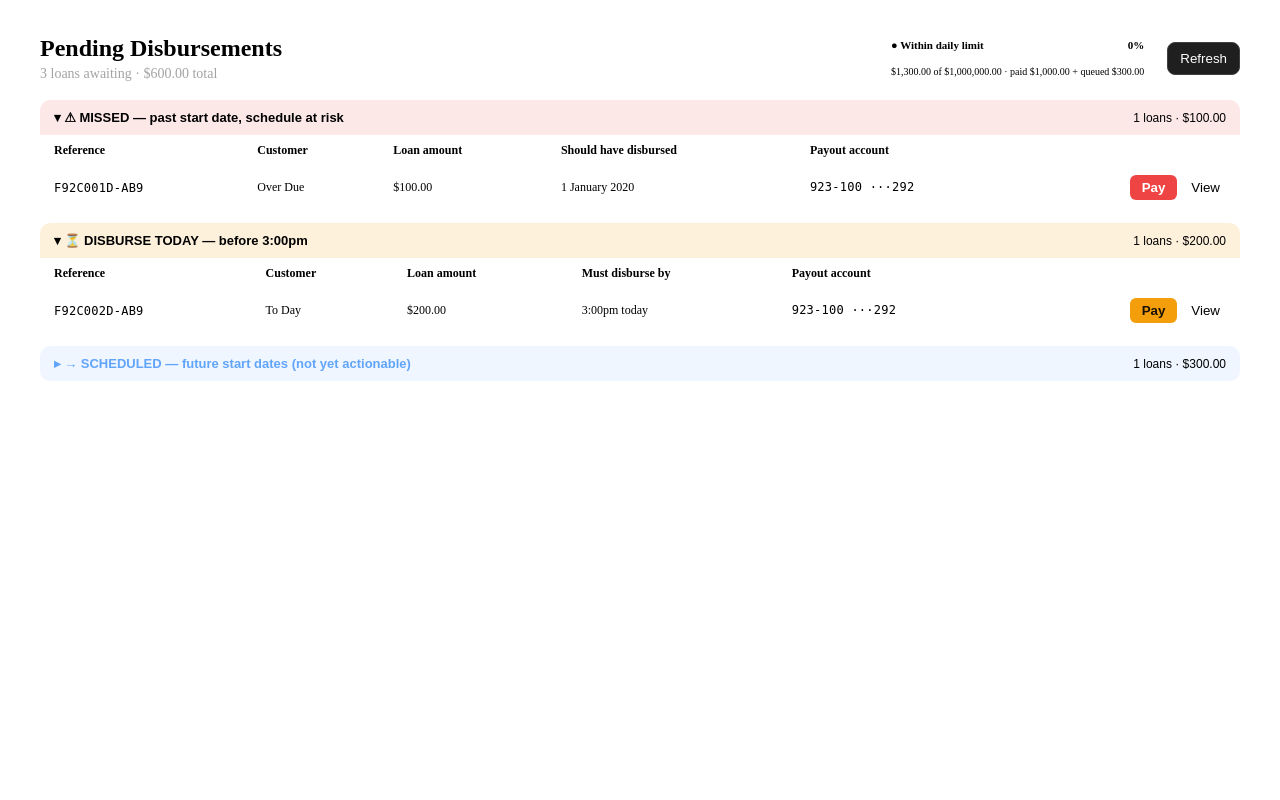
it: PendingDisbursementsView › opens the panel once the early-disbursement warning is confirmed
Expected: the element with test id "section-scheduled" is shown, x1=40 y1=346 x2=1240 y2=381
Click the text "▸ → SCHEDULED — future start dates (not yet actionable)" at (232, 364), box x1=54 y1=356 x2=411 y2=371
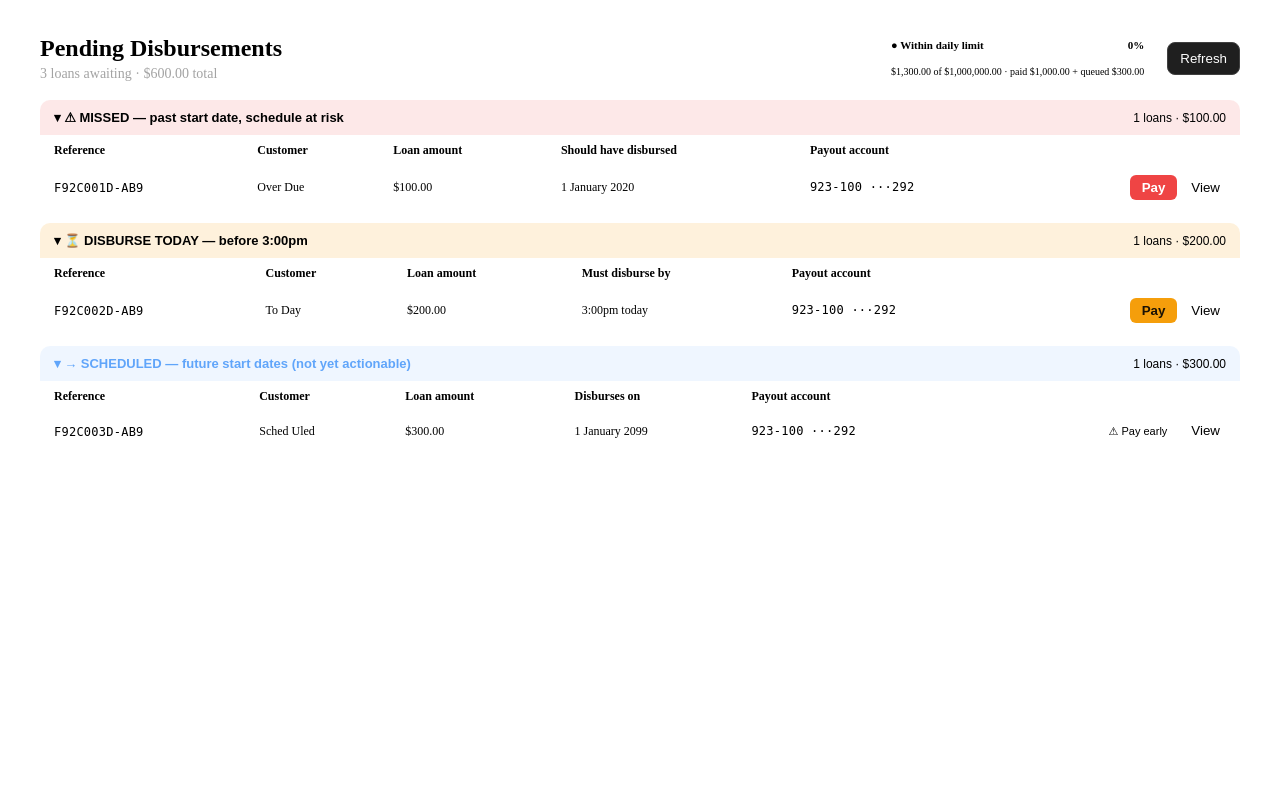
Click the button with test id "toggle-payment-a3" at (1138, 432), box x1=1099 y1=421 x2=1177 y2=442
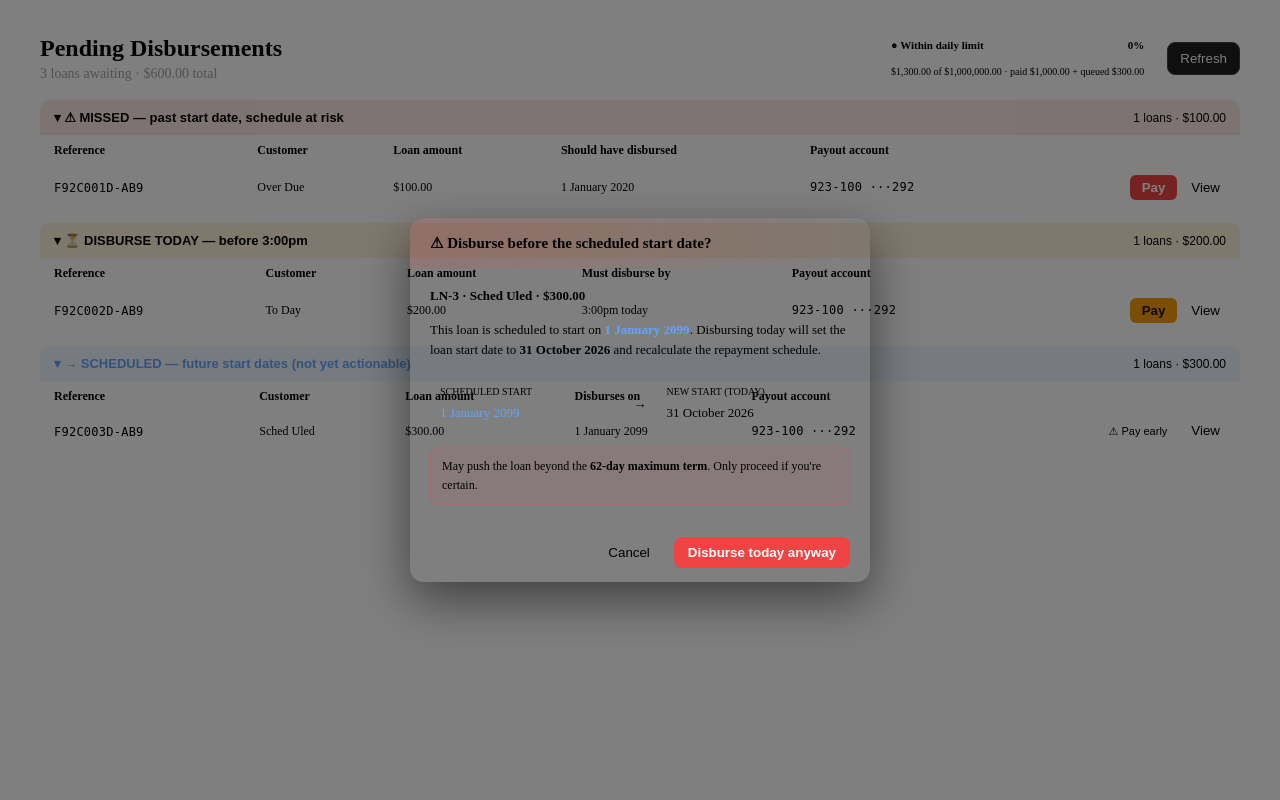
Click the button "Disburse today anyway" at (762, 552), box x1=674 y1=537 x2=850 y2=568
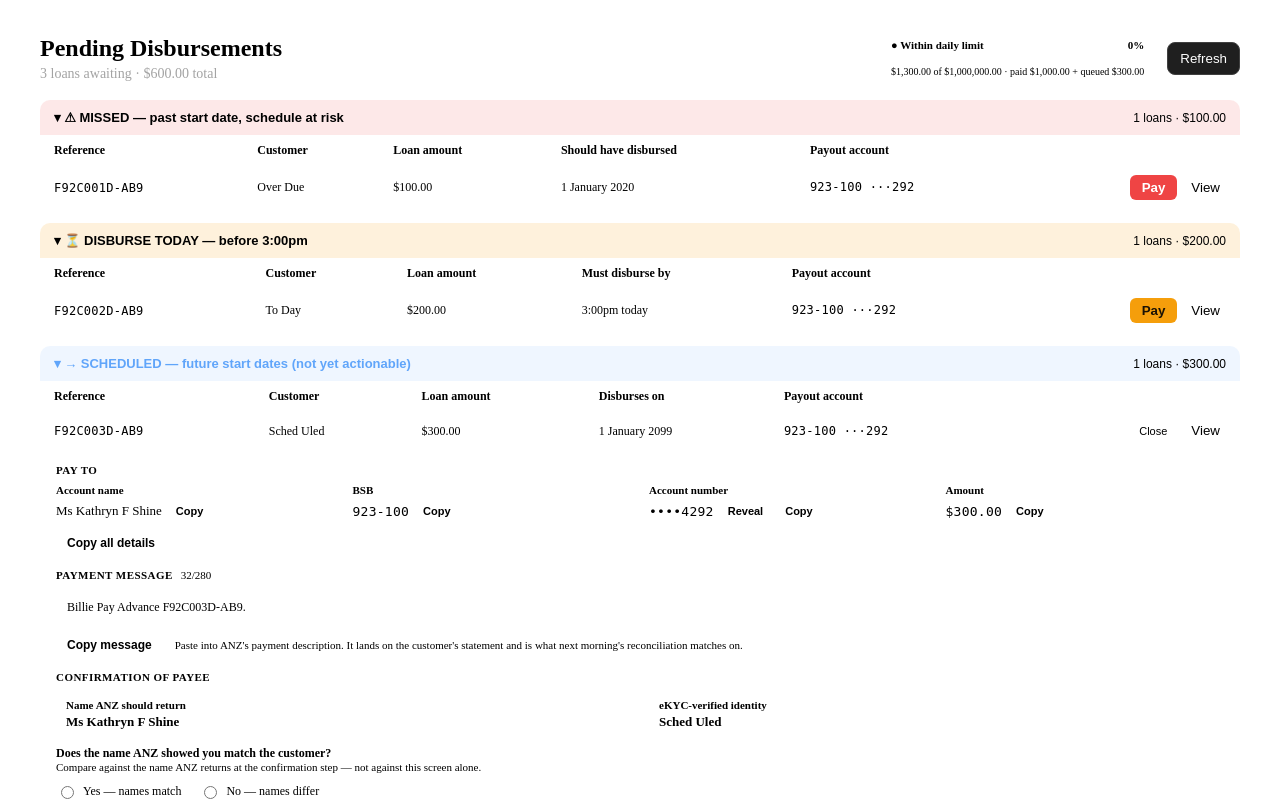
Expected: the text "Billie Pay Advance F92C003D-AB9." is shown, x1=67 y1=600 x2=246 y2=614
